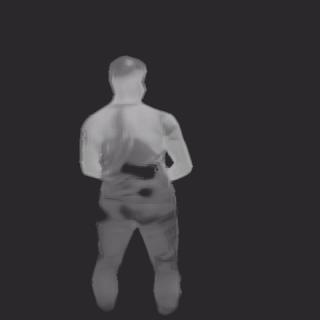Gun: (118, 162, 158, 197)
